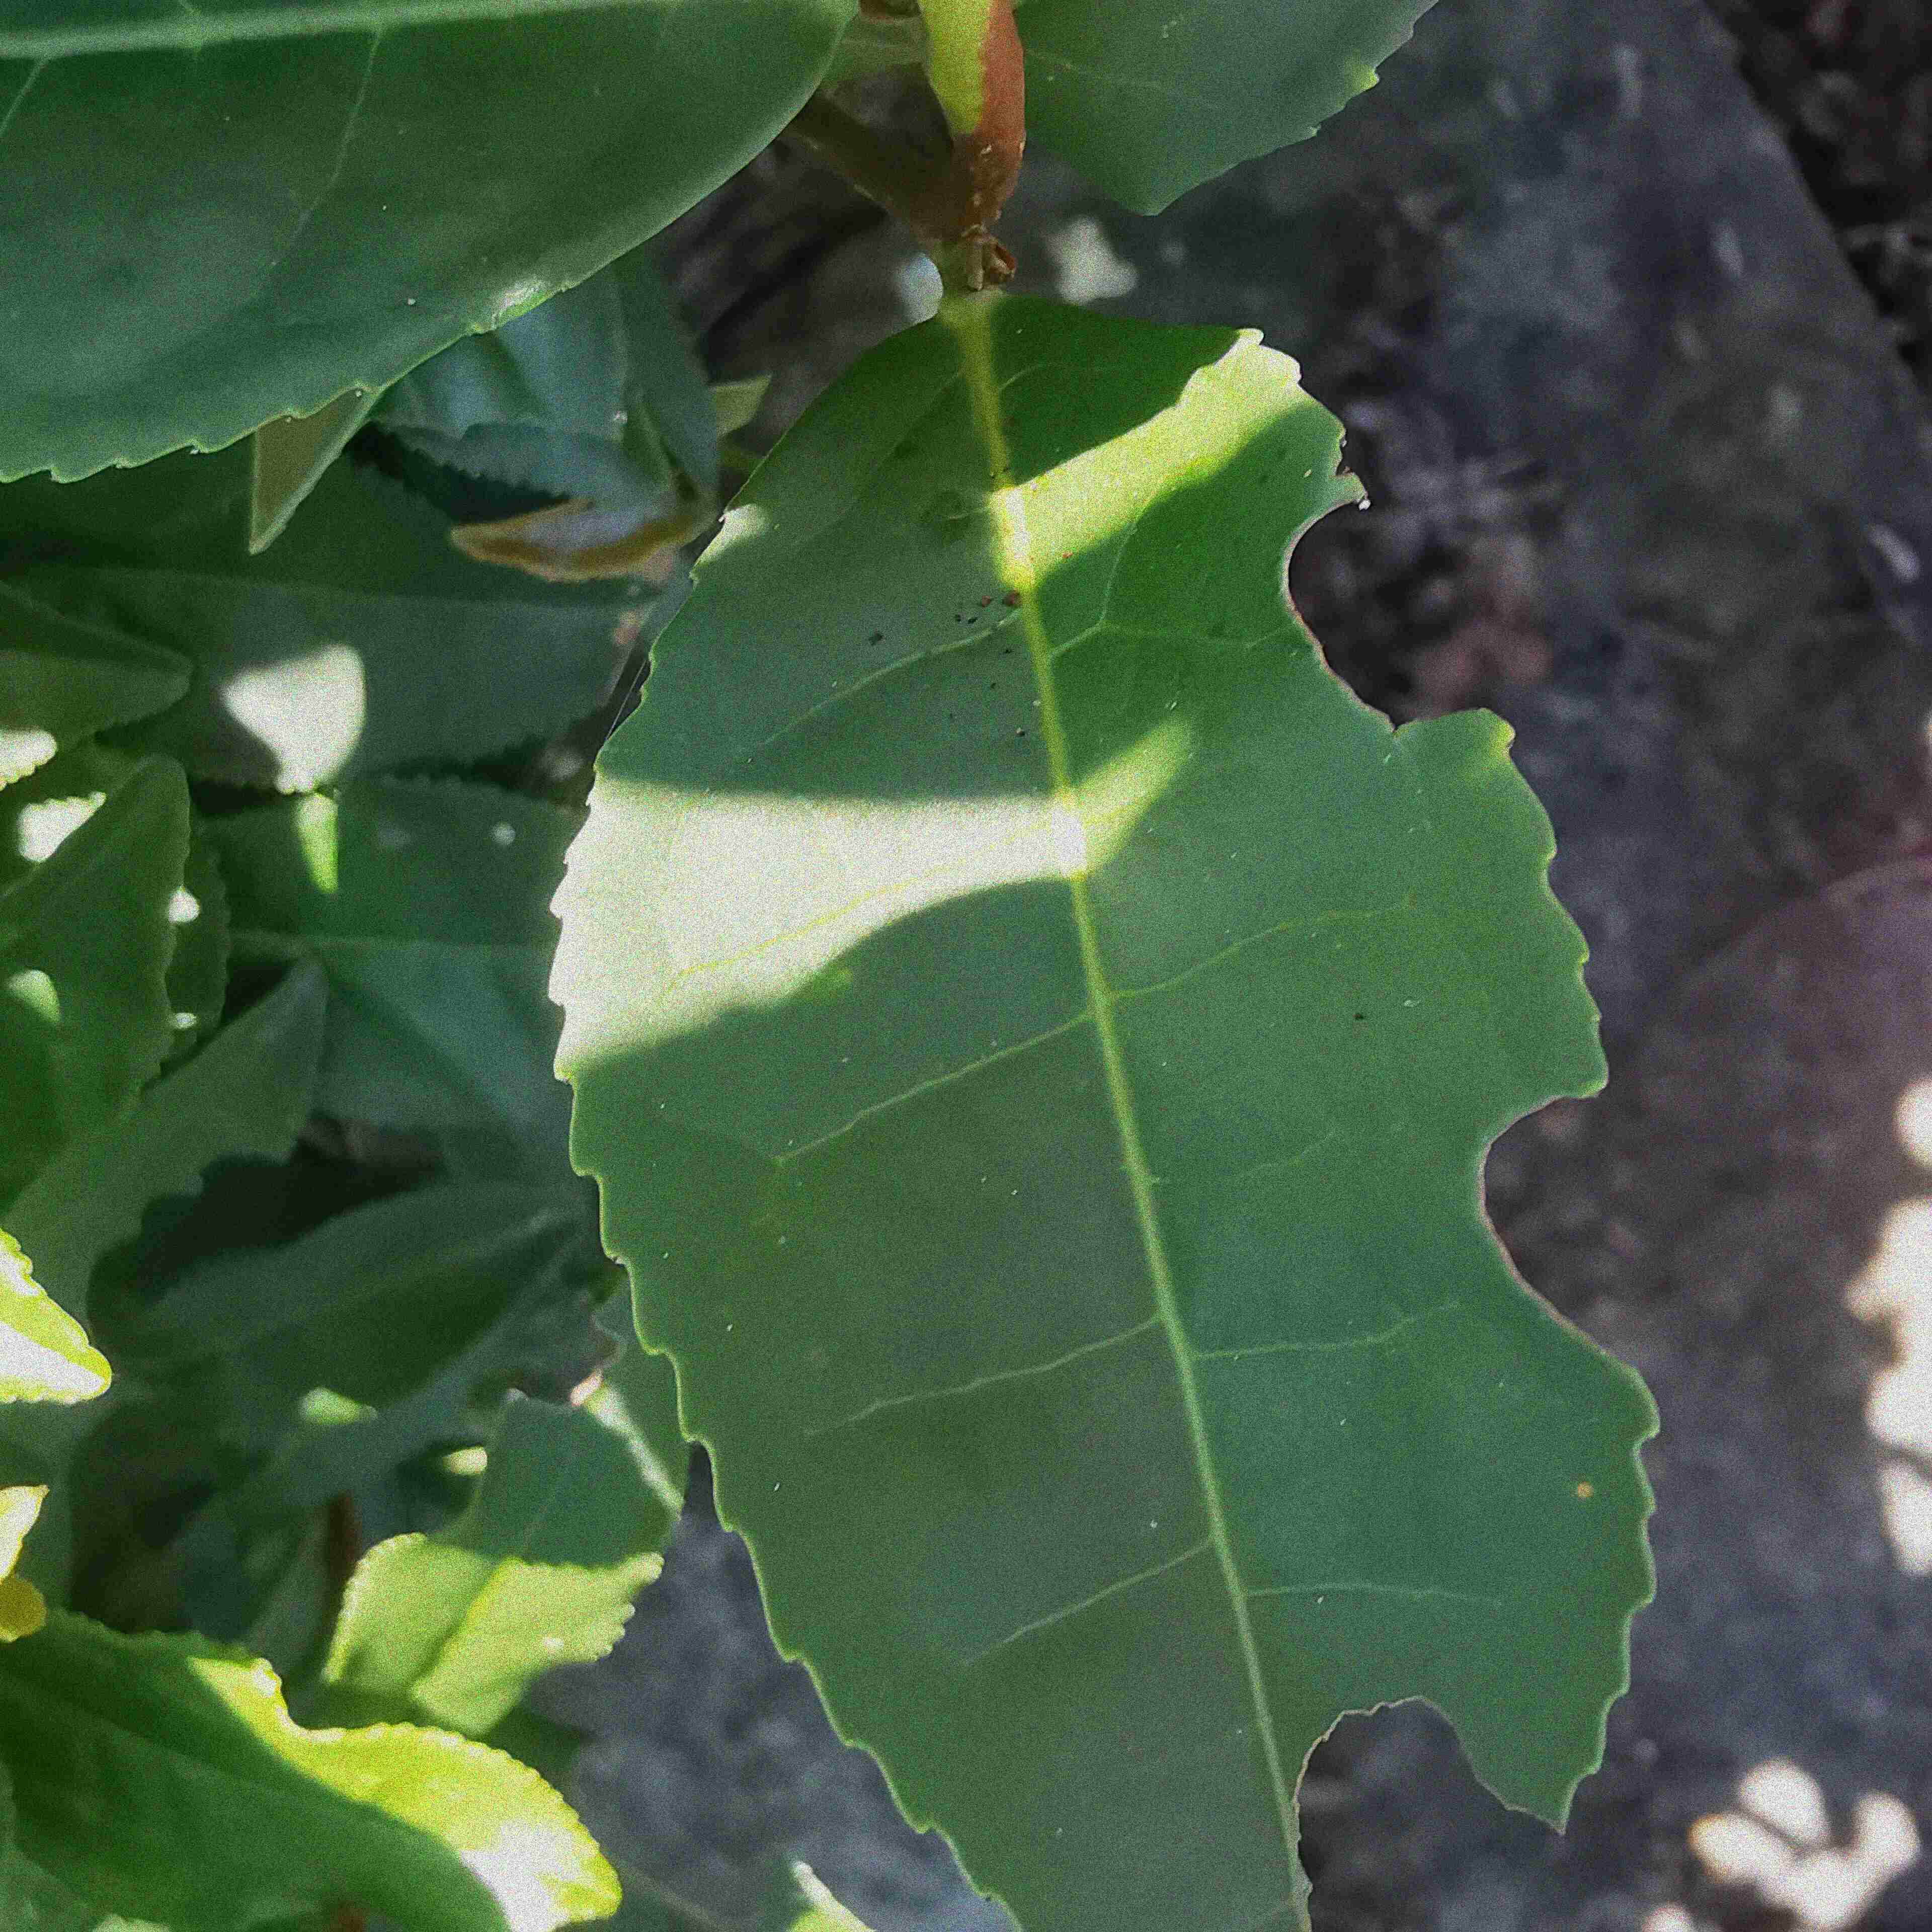chihuo_high: (547, 280, 1668, 1930)
